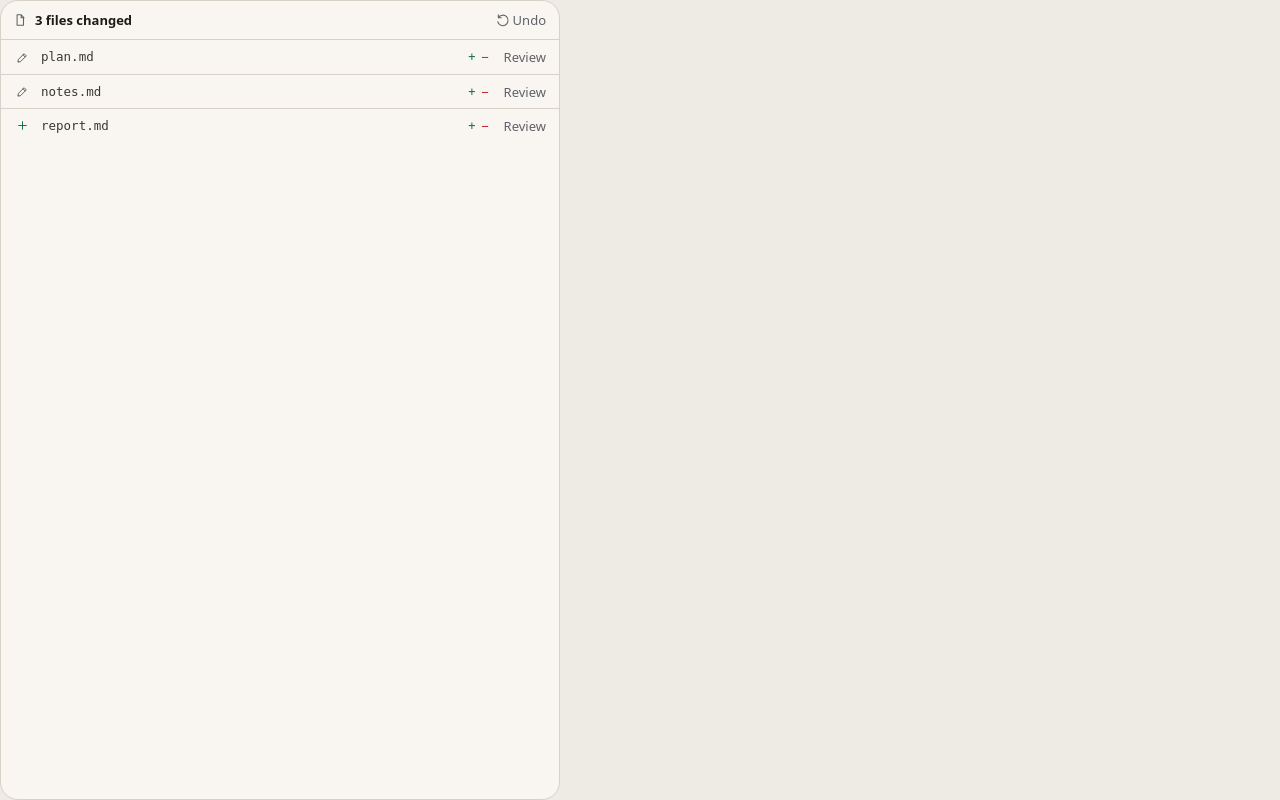
Test: the files a turn changed › of a turn that also kept something in memory › cannot undo with both boxes cleared
Click the button with aria-label "Undo these changes" at (521, 20), box [491,7,551,33]
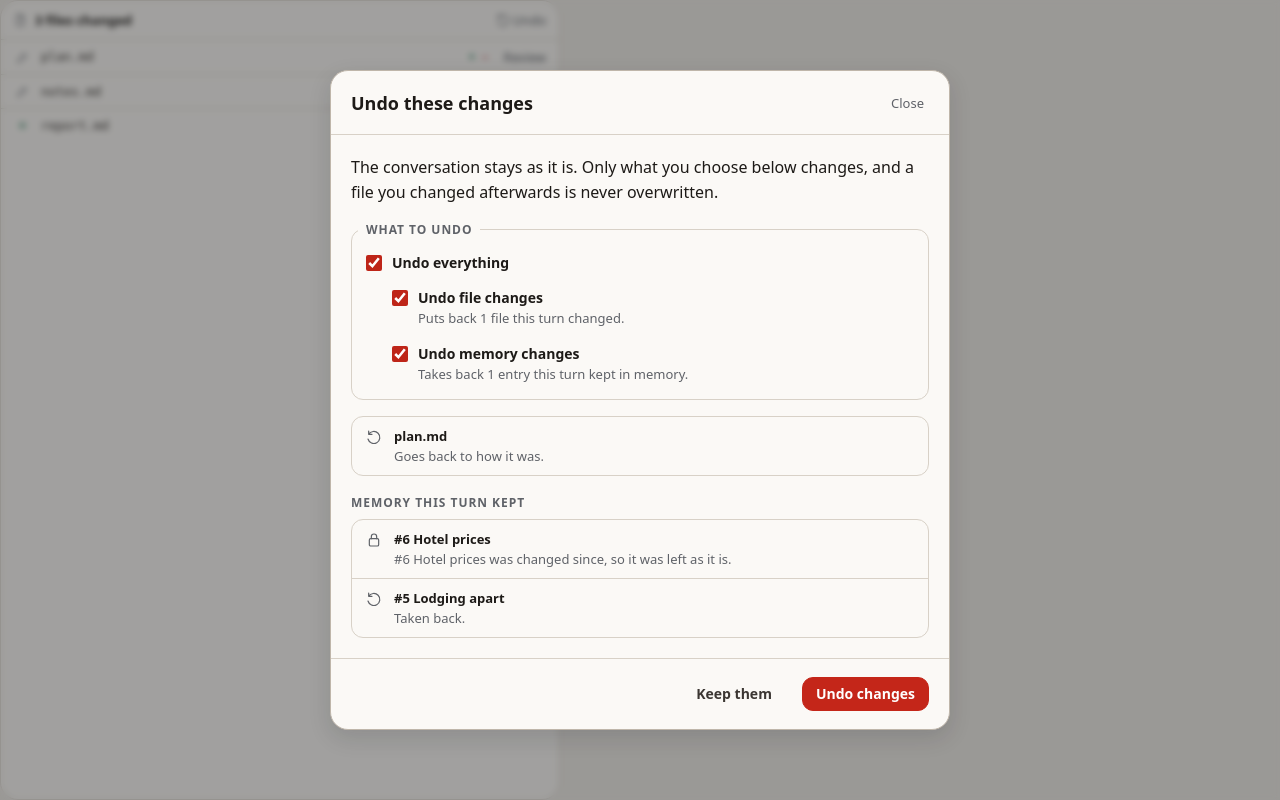
Click the checkbox labelled "Undo everything" at (374, 263), box [366,255,382,271]
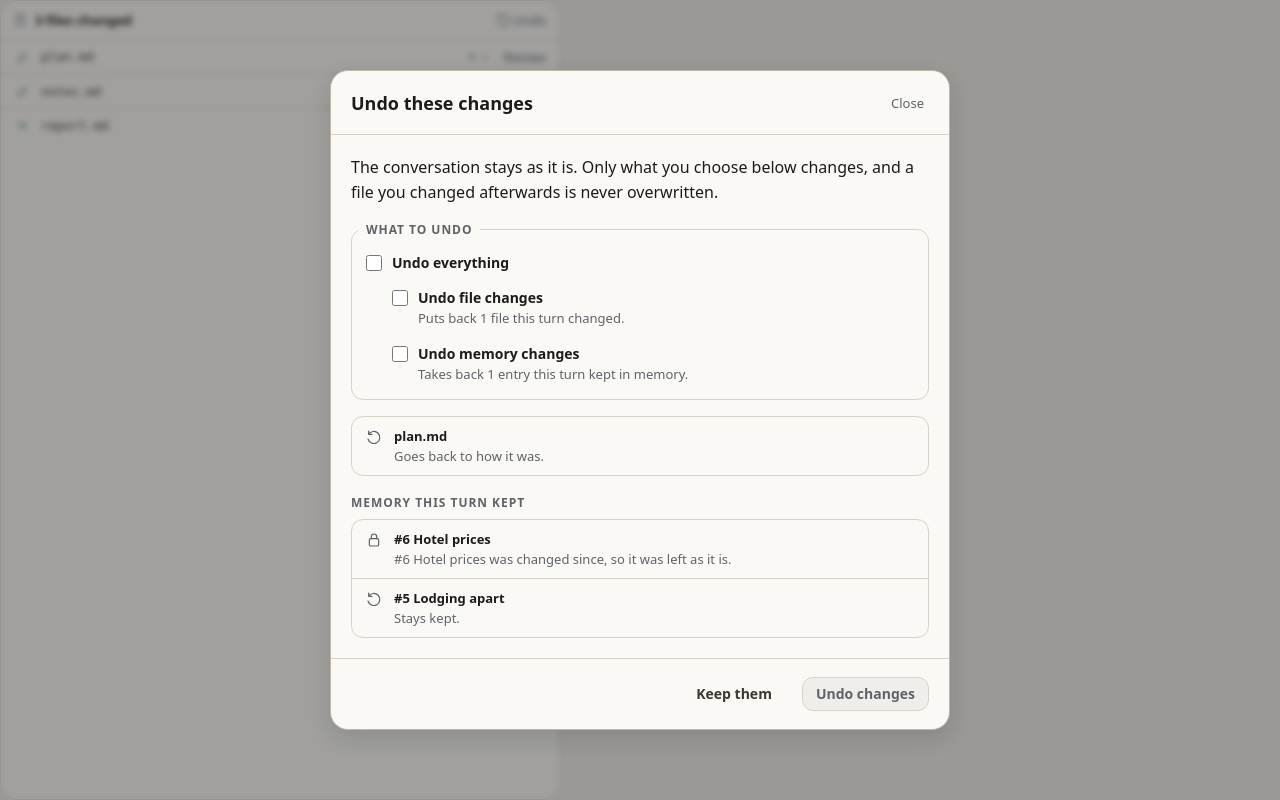
Expected: the button "Undo changes" is disabled, [802,677,929,711]
Click the checkbox labelled "Undo memory changes" at (400, 354), box [392,346,408,362]
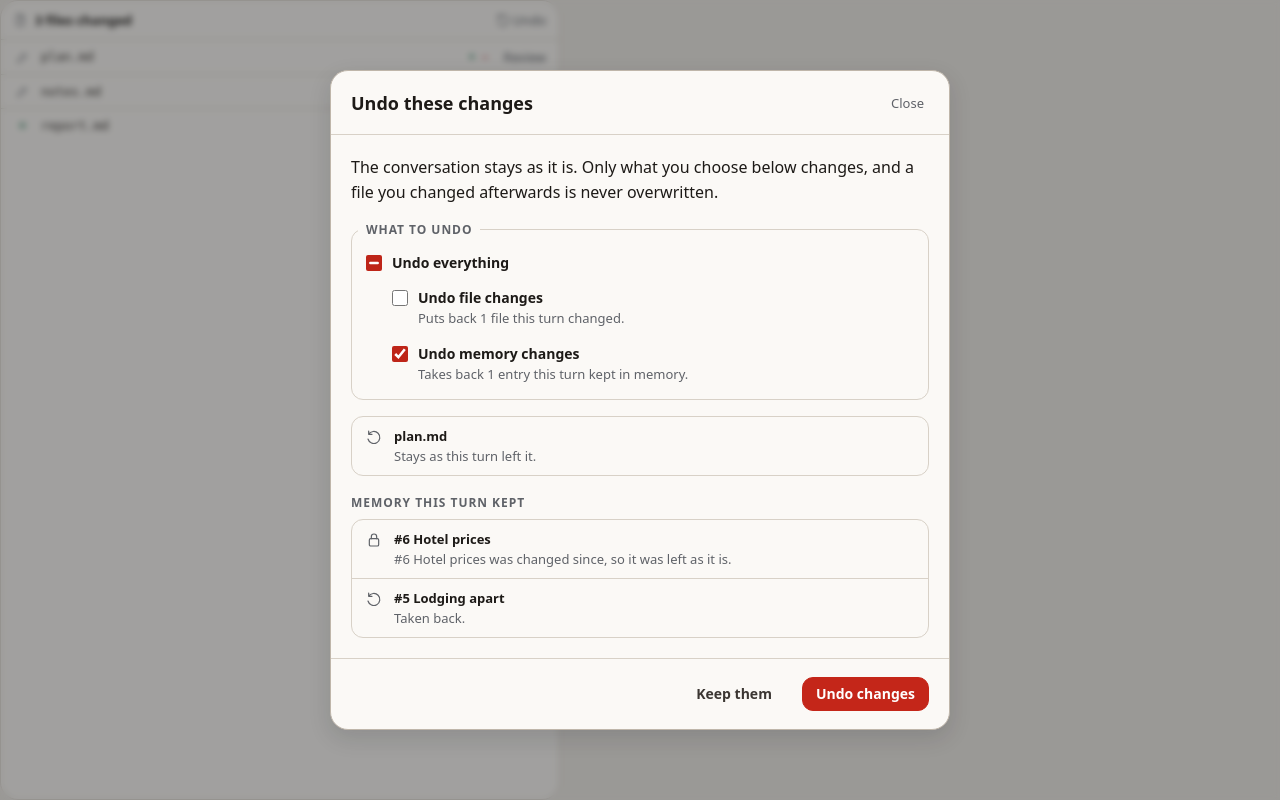
Expected: the button "Undo changes" is enabled, [802,677,929,711]
